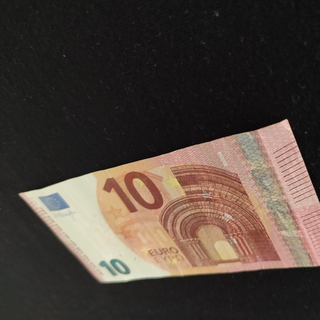10EUROFront: (18, 118, 320, 284)
